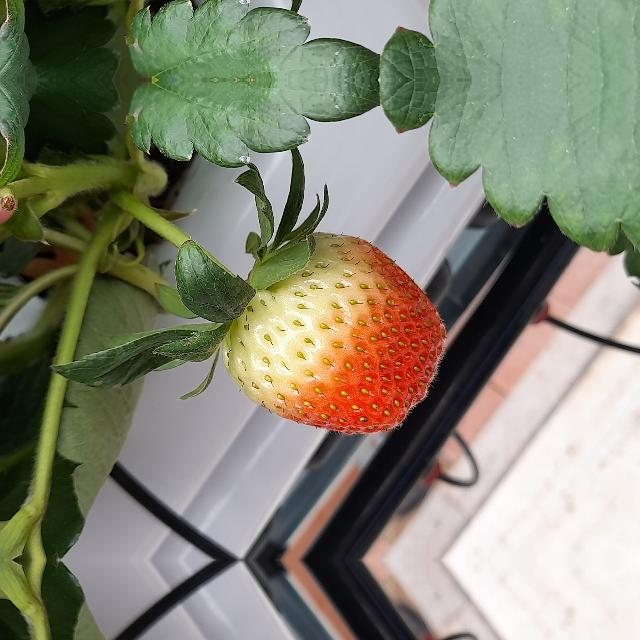Health_75: (221, 232, 445, 434)
